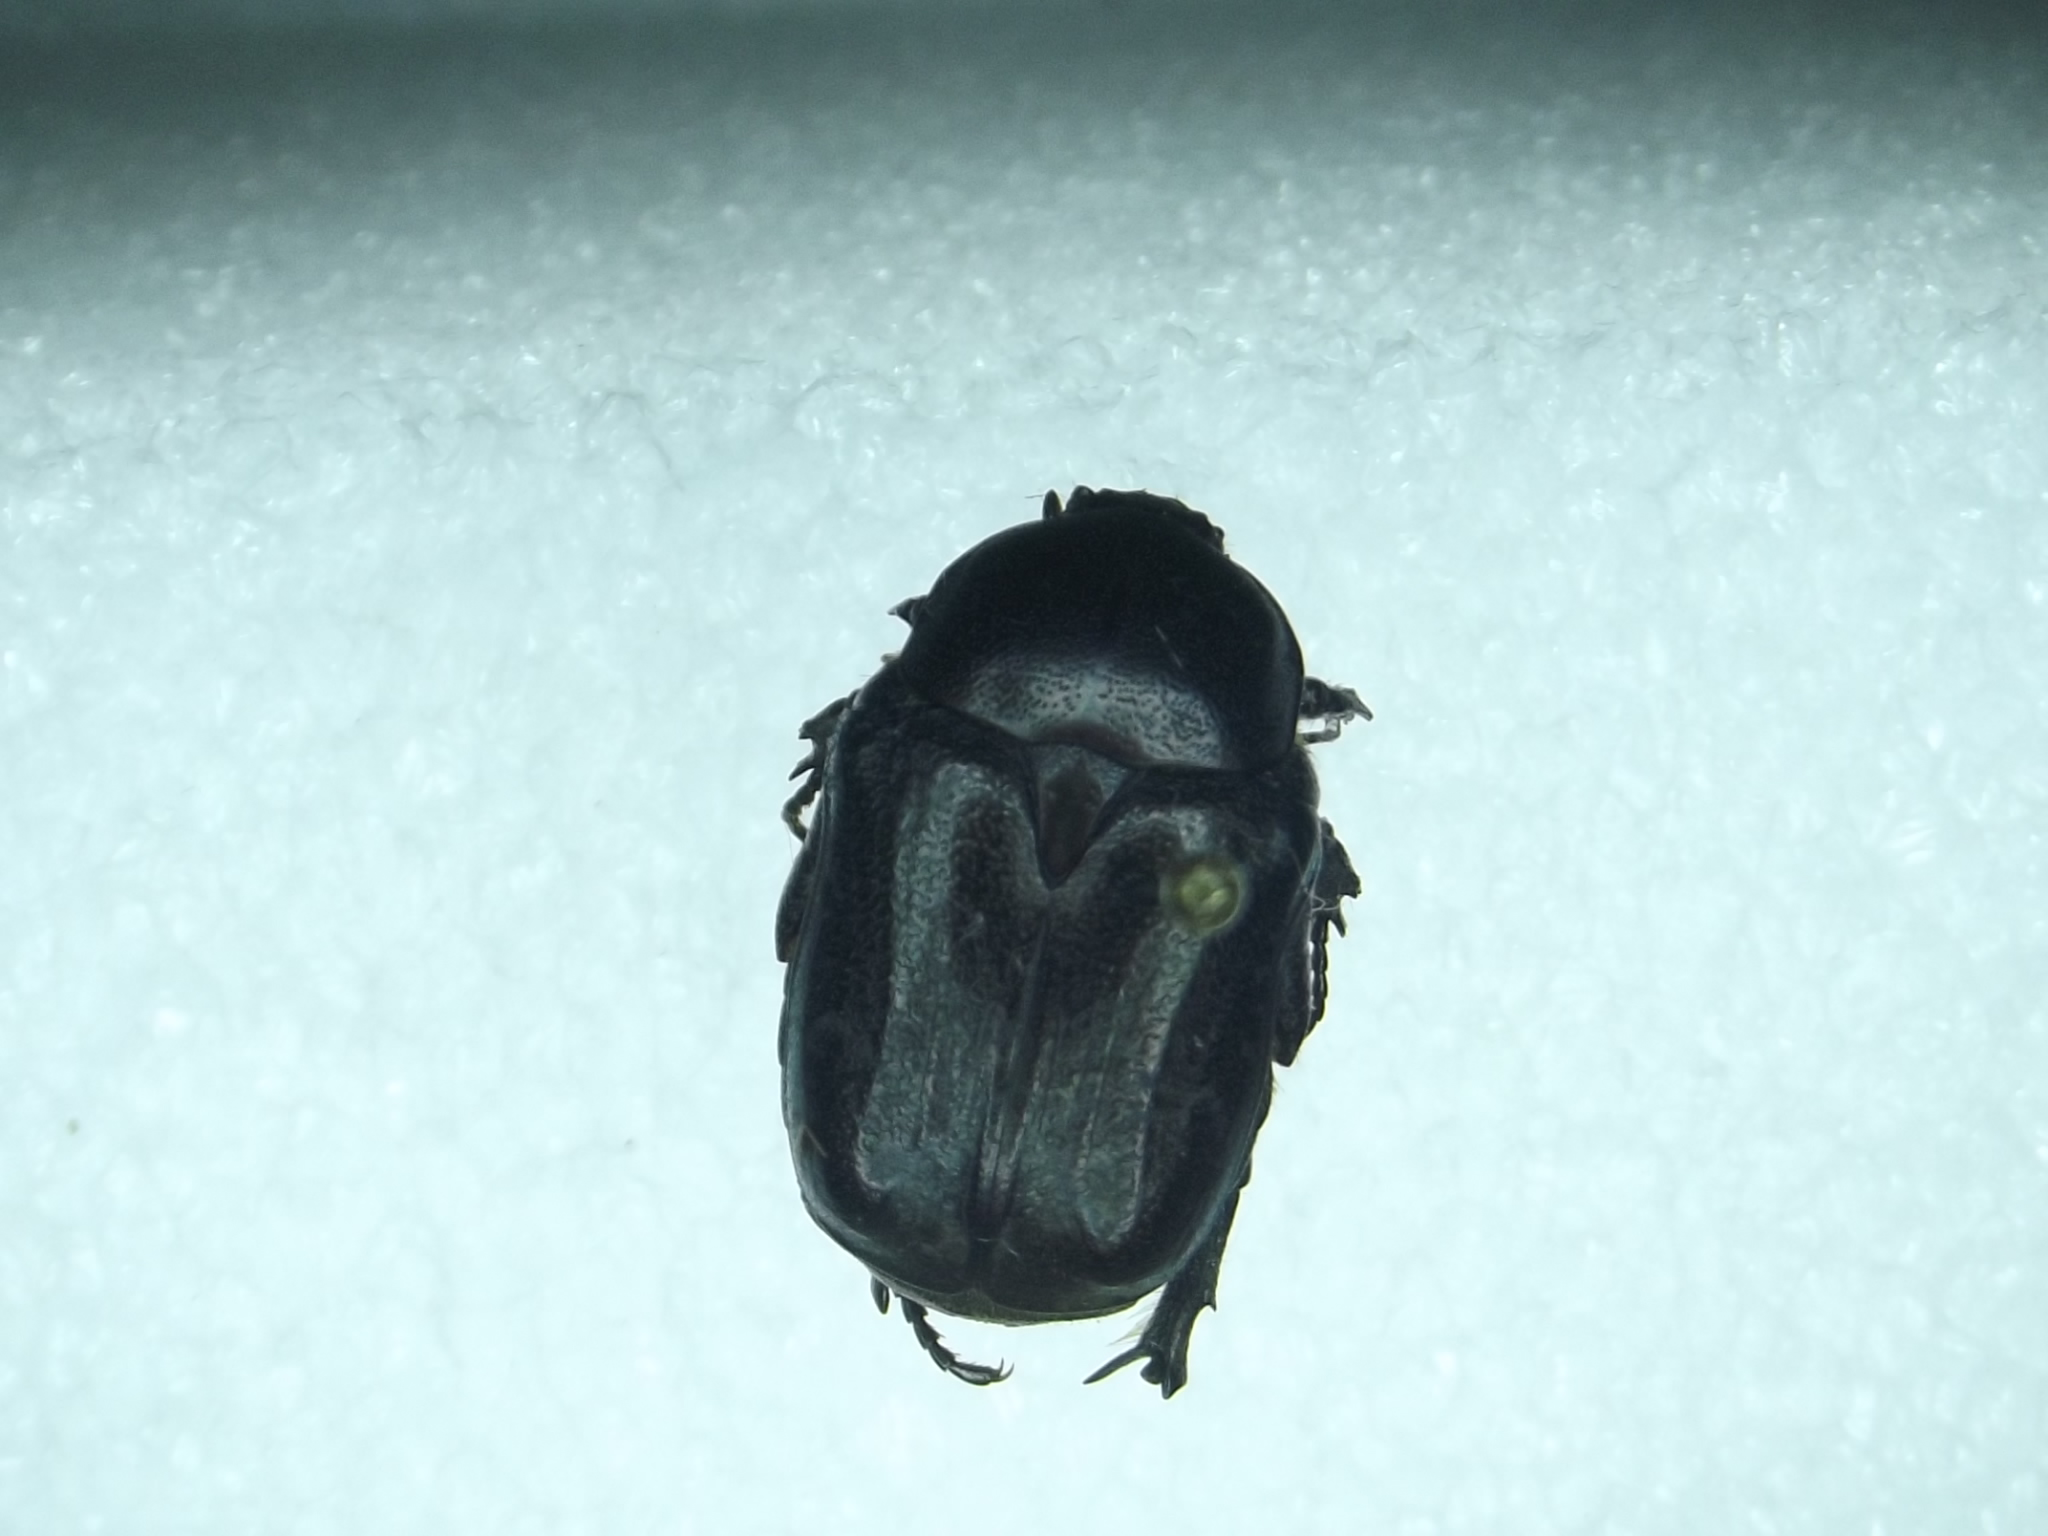Protaetia_vidua: (742, 474, 1382, 1430)
